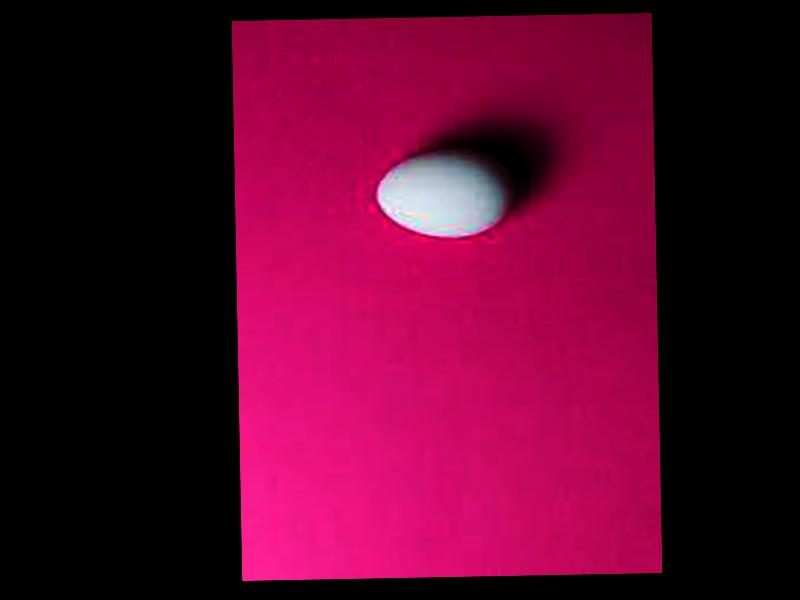Eggs: (375, 147, 515, 239)
